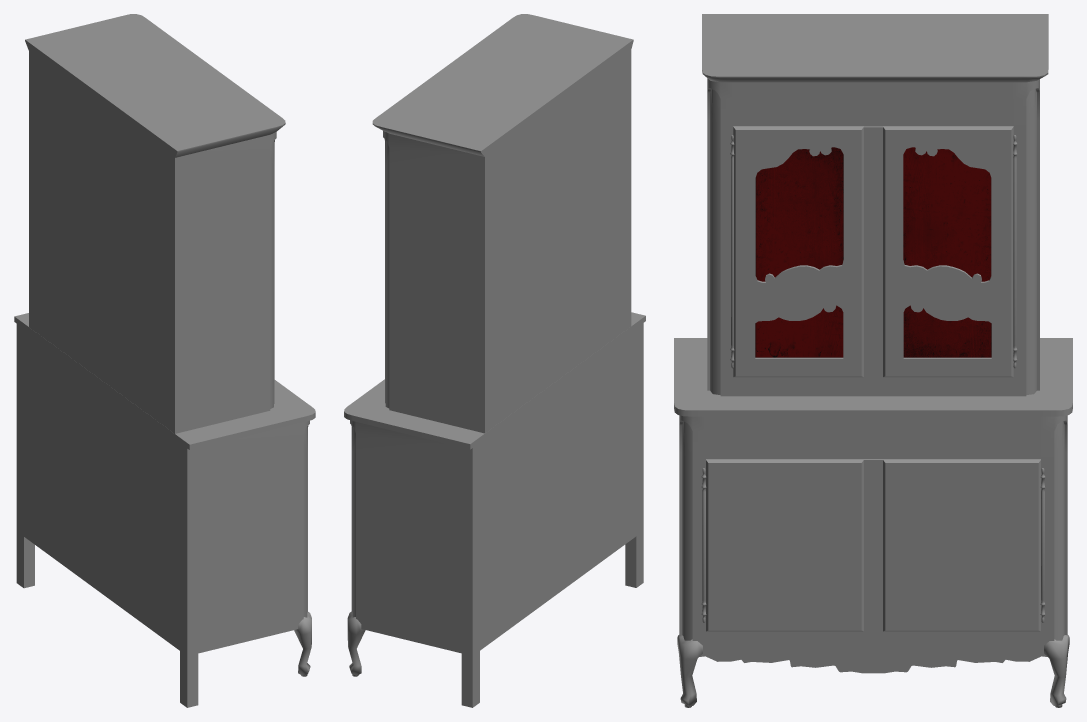
File: SM_Cabinet.FBX
3 views of the same model, side by side, from view 1: azimuth 30°, elevation 25°; view 2: azimuth 150°, elevation 25°; view 3: azimuth 270°, elevation 25° (orthographic). The views are drawn at different scales.
Visible parts, largest first — view 1: SM_Cabinet_LOD0; view 2: SM_Cabinet_LOD0; view 3: SM_Cabinet_LOD0.
Boxes of the visible parts, x1,y1,x2,y2 form: SM_Cabinet_LOD0: (14,14,315,707); SM_Cabinet_LOD0: (344,14,645,707); SM_Cabinet_LOD0: (674,14,1072,707).
Size of what is drawn, in the model's own units: 61.94 by 249 by 144.
